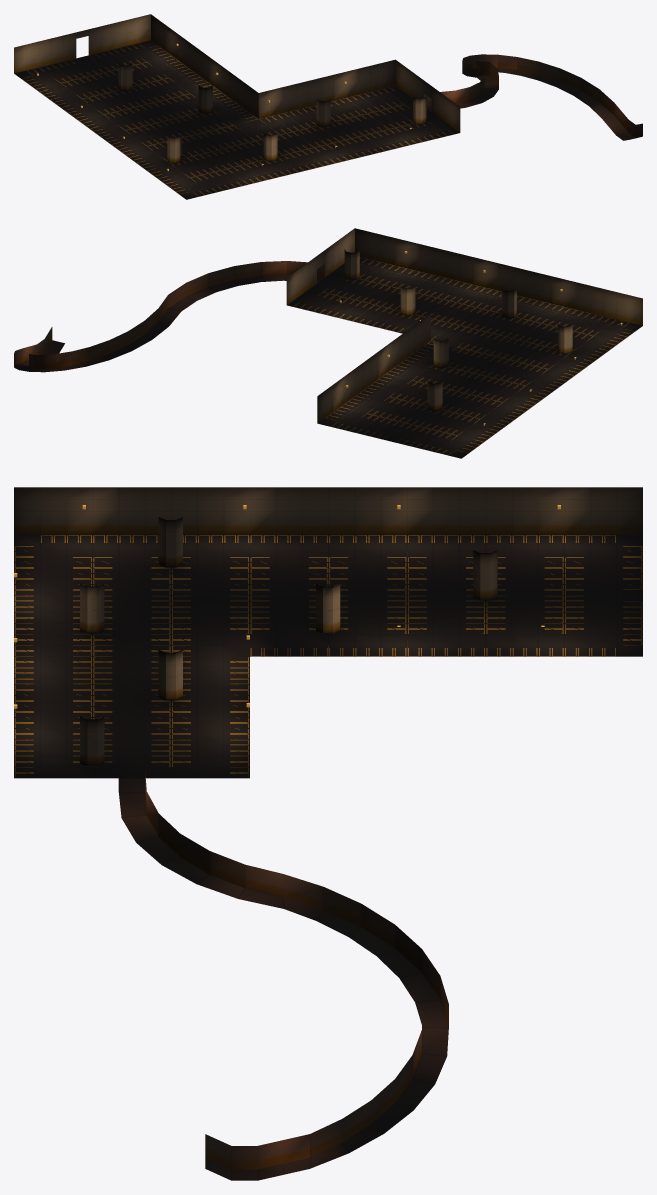
The model's file is underground-2.gltf.
The picture shows the model from 3 angles, top to bottom: view 1: azimuth 30°, elevation 25°; view 2: azimuth 150°, elevation 25°; view 3: azimuth 270°, elevation 25°; orthographic projection. The views are drawn at different scales.
Parts seen in each view (by area): view 1: default; view 2: default; view 3: default.
Part boxes in pixels (bbox=[...]): default: bbox=[14, 14, 642, 199]; default: bbox=[14, 228, 642, 458]; default: bbox=[14, 487, 642, 1180].
Size of the model in its own units: 327 by 81 by 192.
Materials: 1 (1 with a texture image).
